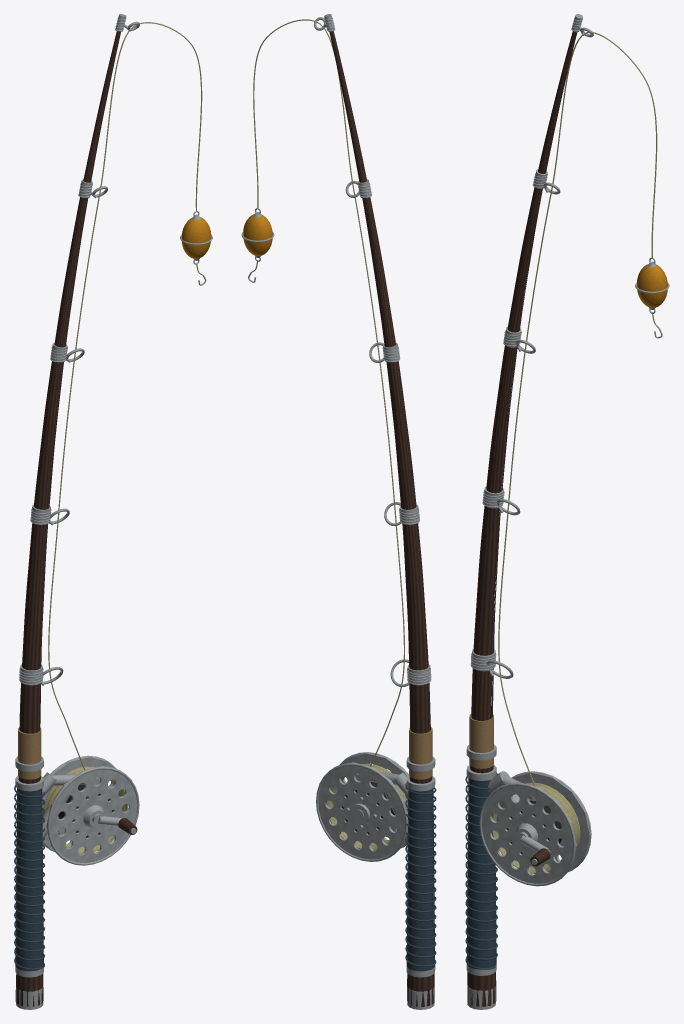
Rendered from duskoak_rod.glb.
3 renders of one model, left to right at view 1: azimuth 30°, elevation 25°; view 2: azimuth 150°, elevation 25°; view 3: azimuth 330°, elevation 25°, orthographic. The views are drawn at different scales.
Visible parts, largest first — view 1: duskoak_rod-worked-reel-metal, duskoak_rod-longitudinal-wood-grain, duskoak_rod-creased-hide-wrap, duskoak_rod-twisted-gut, duskoak_rod-cork, duskoak_rod-float-body; view 2: duskoak_rod-worked-reel-metal, duskoak_rod-longitudinal-wood-grain, duskoak_rod-creased-hide-wrap, duskoak_rod-twisted-gut, duskoak_rod-cork, duskoak_rod-float-body; view 3: duskoak_rod-worked-reel-metal, duskoak_rod-longitudinal-wood-grain, duskoak_rod-creased-hide-wrap, duskoak_rod-twisted-gut (×2), duskoak_rod-float-body, duskoak_rod-cork.
Boxes of the visible parts, box(x1,y1,x2,y2) form: duskoak_rod-worked-reel-metal: box(15, 14, 139, 1009); duskoak_rod-longitudinal-wood-grain: box(15, 31, 137, 1006); duskoak_rod-creased-hide-wrap: box(14, 785, 44, 971); duskoak_rod-twisted-gut: box(43, 26, 133, 853); duskoak_rod-cork: box(18, 727, 41, 779); duskoak_rod-float-body: box(181, 217, 211, 258); duskoak_rod-worked-reel-metal: box(314, 14, 435, 1009); duskoak_rod-longitudinal-wood-grain: box(329, 31, 434, 1006); duskoak_rod-creased-hide-wrap: box(405, 783, 436, 971); duskoak_rod-twisted-gut: box(320, 23, 407, 850); duskoak_rod-cork: box(409, 727, 432, 779); duskoak_rod-float-body: box(243, 214, 272, 255); duskoak_rod-worked-reel-metal: box(466, 14, 593, 1009); duskoak_rod-longitudinal-wood-grain: box(467, 31, 577, 1006); duskoak_rod-creased-hide-wrap: box(465, 773, 497, 969); duskoak_rod-twisted-gut (×2): box(492, 32, 659, 873); duskoak_rod-float-body: box(637, 264, 667, 307); duskoak_rod-cork: box(469, 714, 493, 768).
Bounding box in the file's own units: 0.4008 × 1.92 × 0.128.
7 materials, 7 textured.
